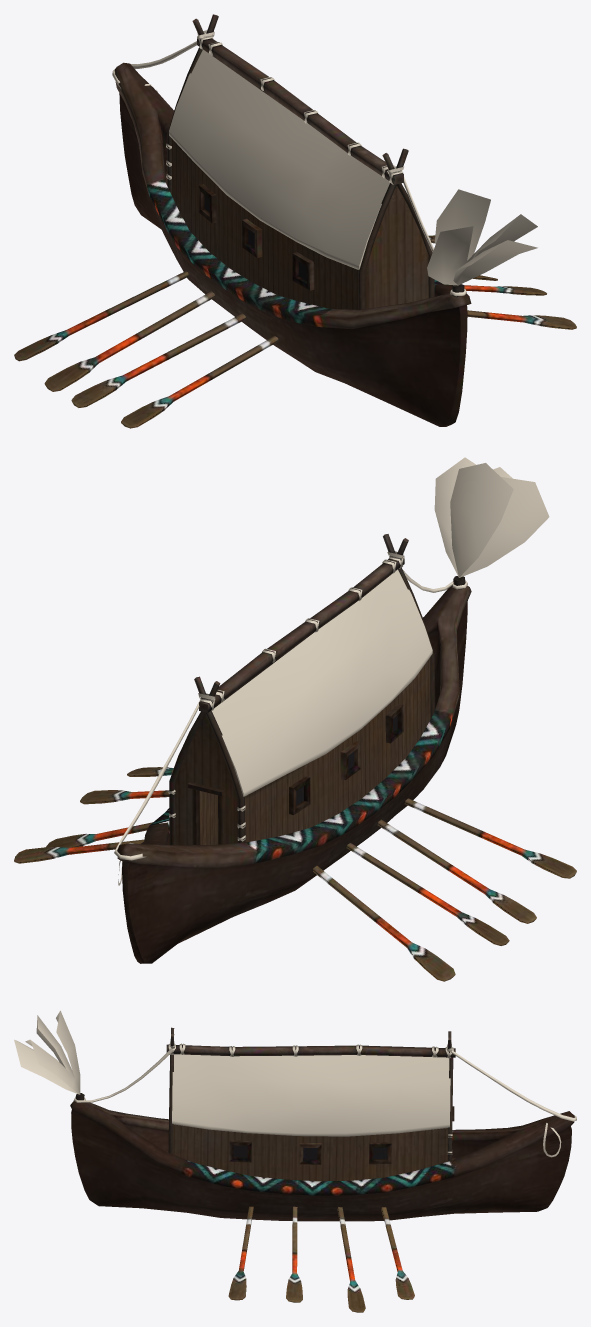
File: 269-arrowcanoe.glb
3 views of the same model, one above another, from view 1: azimuth 30°, elevation 25°; view 2: azimuth 150°, elevation 25°; view 3: azimuth 270°, elevation 25° (orthographic). The views are drawn at different scales.
Size of the model in its own units: 5.26 by 3.25 by 7.6.
Materials: 3 (1 with a texture image).
